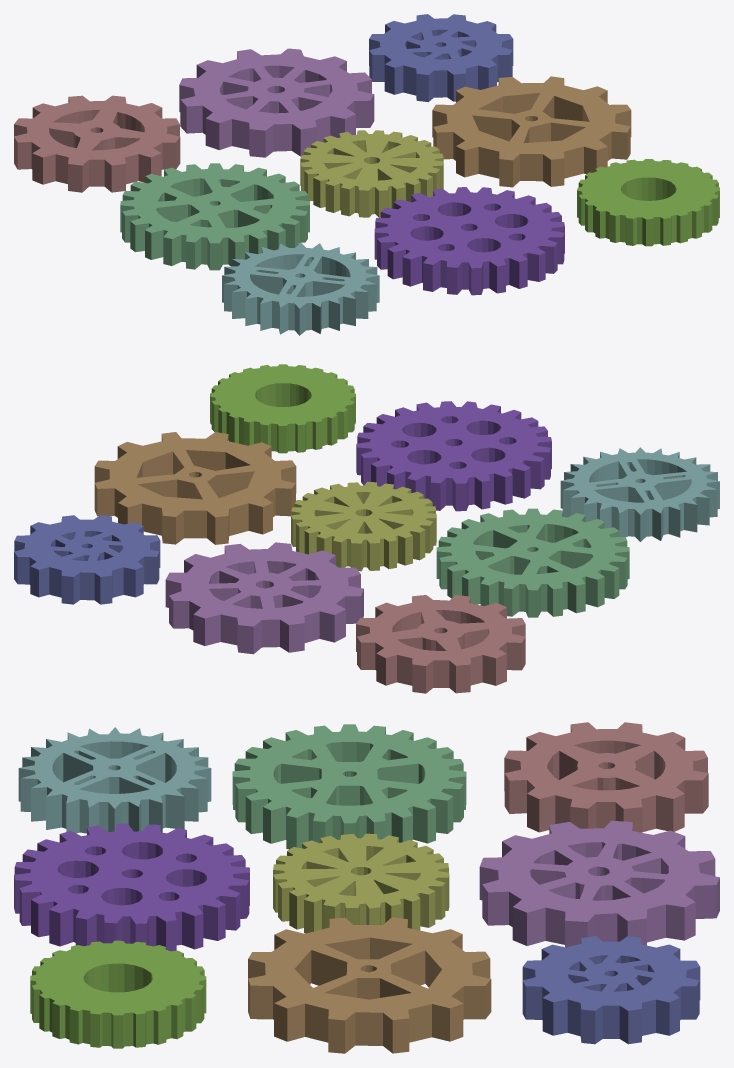
Rendered from Gear Variations.fbx.
3 views of the same model, one above another, from view 1: azimuth 30°, elevation 25°; view 2: azimuth 150°, elevation 25°; view 3: azimuth 270°, elevation 25° (orthographic). The views are drawn at different scales.
Parts seen in each view (by area): view 1: Gear_6, Gear_8, Gear_2, Gear_4, Gear_1, Gear_7, Gear_9, Gear_3, Gear_5; view 2: Gear_6, Gear_2, Gear_4, Gear_8, Gear_1, Gear_7, Gear_9, Gear_3, Gear_5; view 3: Gear_6, Gear_8, Gear_2, Gear_4, Gear_1, Gear_7, Gear_9, Gear_3, Gear_5.
Part boxes in pixels (box(x1,y1,x2,y2)): Gear_6: box(432, 76, 631, 187); Gear_8: box(374, 187, 564, 295); Gear_2: box(179, 48, 374, 157); Gear_4: box(120, 163, 309, 270); Gear_1: box(14, 95, 180, 192); Gear_7: box(222, 242, 379, 335); Gear_9: box(577, 159, 719, 246); Gear_3: box(369, 14, 513, 101); Gear_5: box(300, 130, 443, 217); Gear_6: box(94, 432, 296, 544); Gear_2: box(165, 542, 363, 654); Gear_4: box(436, 508, 629, 617); Gear_8: box(356, 401, 551, 511); Gear_1: box(356, 595, 525, 693); Gear_7: box(560, 447, 719, 541); Gear_9: box(210, 364, 355, 453); Gear_3: box(14, 515, 160, 604); Gear_5: box(291, 481, 436, 571); Gear_6: box(248, 917, 491, 1053); Gear_8: box(14, 823, 249, 951); Gear_2: box(479, 820, 719, 947); Gear_4: box(232, 724, 466, 849); Gear_1: box(504, 722, 708, 832); Gear_7: box(18, 727, 211, 833); Gear_9: box(30, 940, 206, 1048); Gear_3: box(522, 936, 700, 1044); Gear_5: box(273, 833, 449, 933).
Size of the model in its own units: 19.17 by 1 by 19.18.
